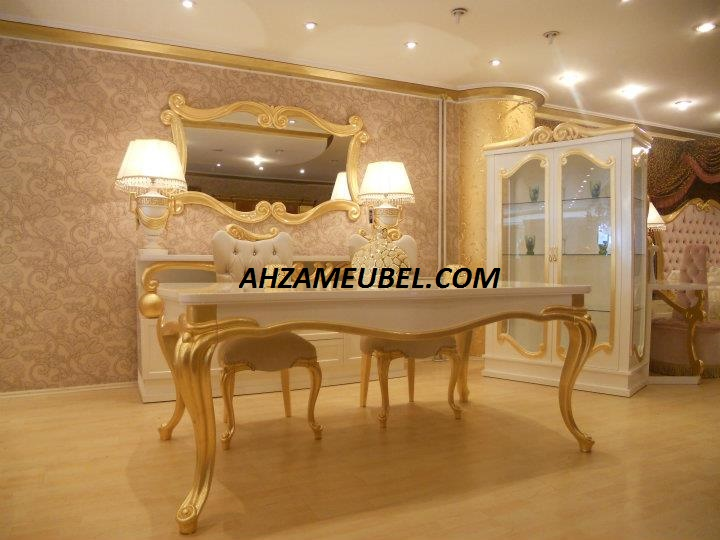Carving Table: (130, 283, 610, 519)
